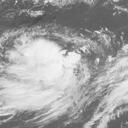cyclone: (11, 38, 76, 95)
